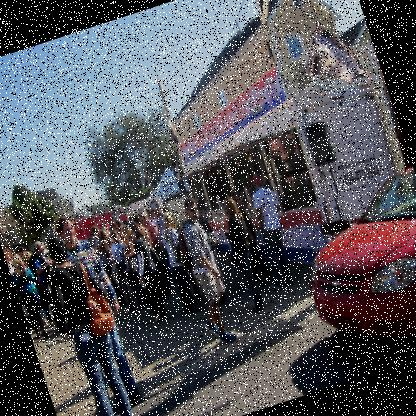Car: (286, 169, 415, 367)
